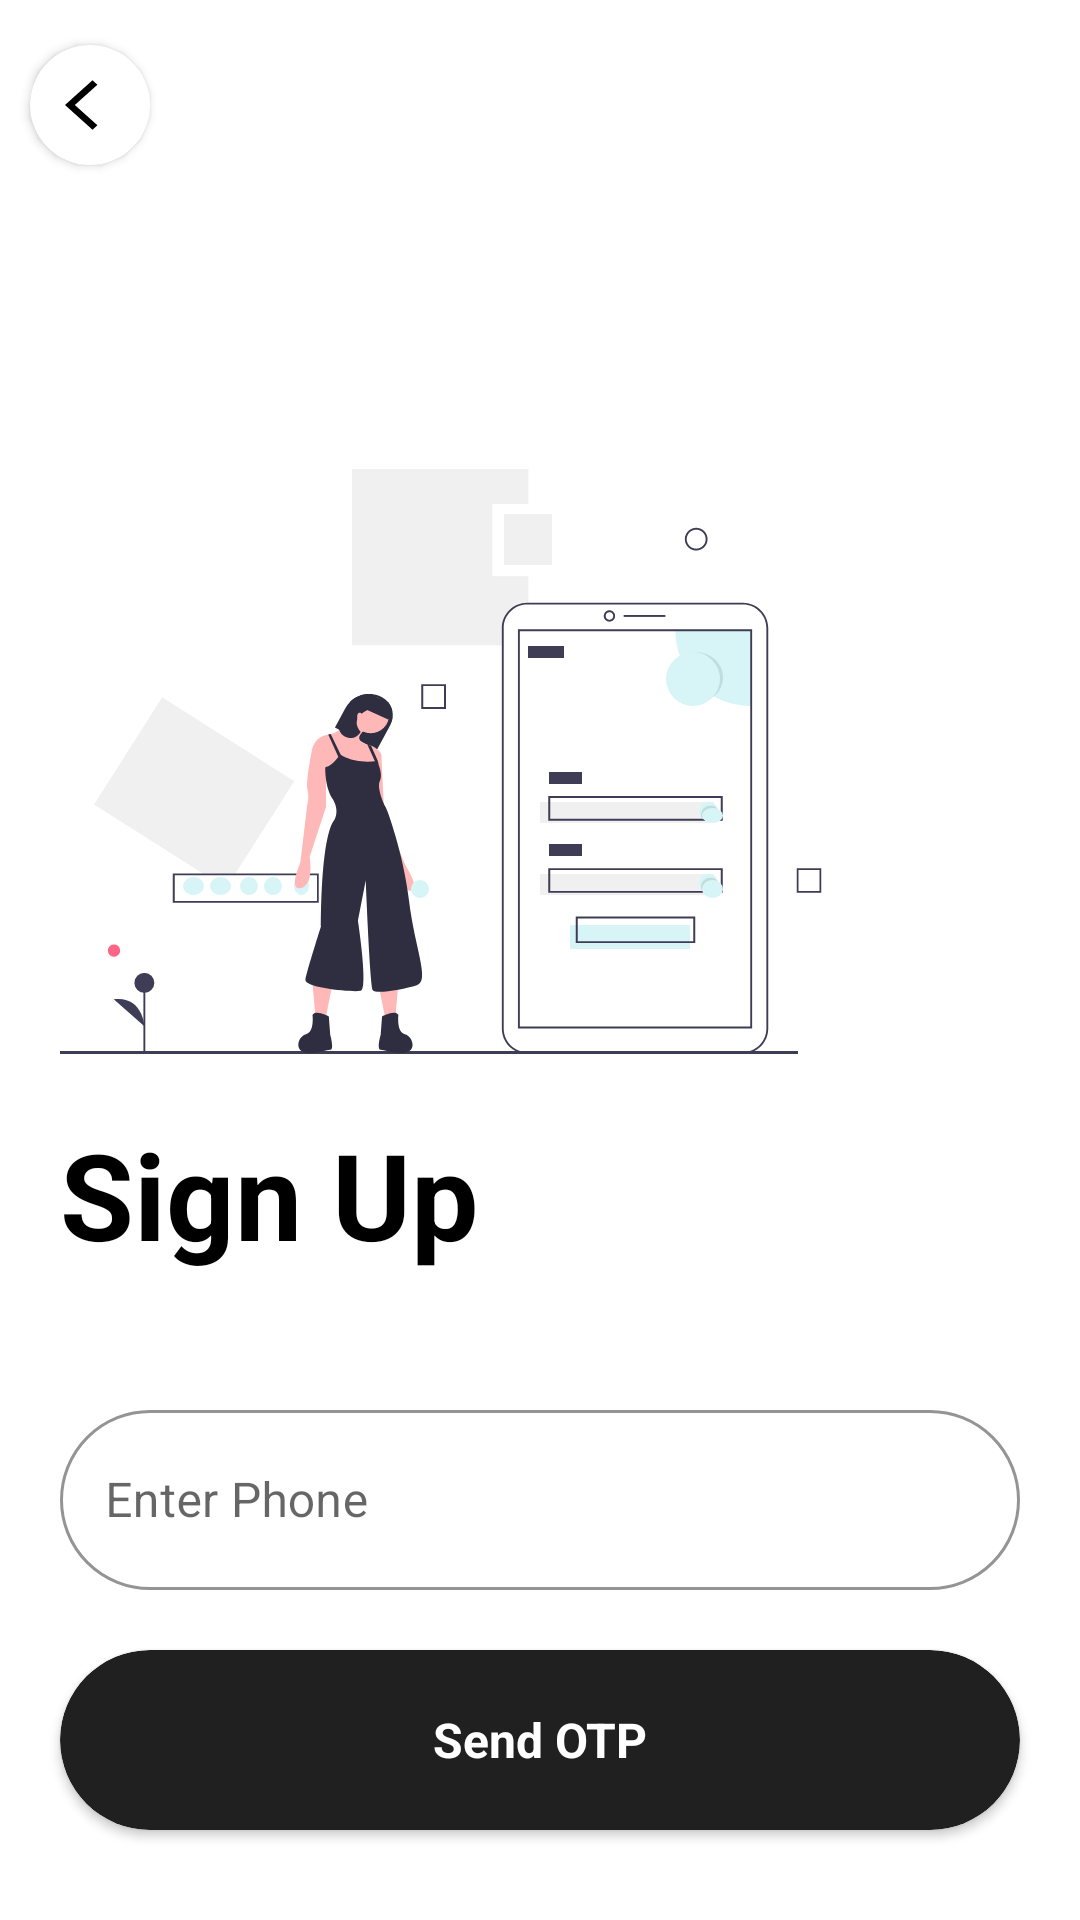

Point at icon controls on the screen. Image size 1080 × 1920, points as point (x, y).
back: point (81, 105)
